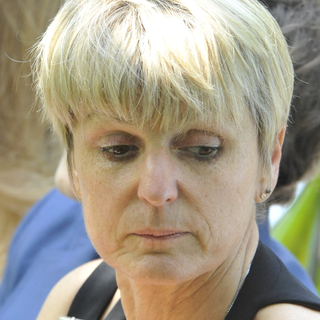eye: (91, 135, 143, 164), (173, 136, 226, 162)
